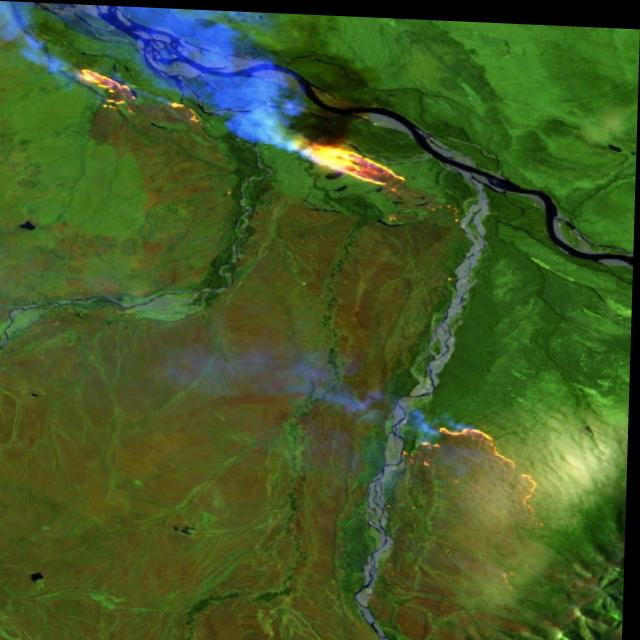fire: (393, 411, 551, 513), (265, 112, 420, 194), (66, 61, 212, 126)
